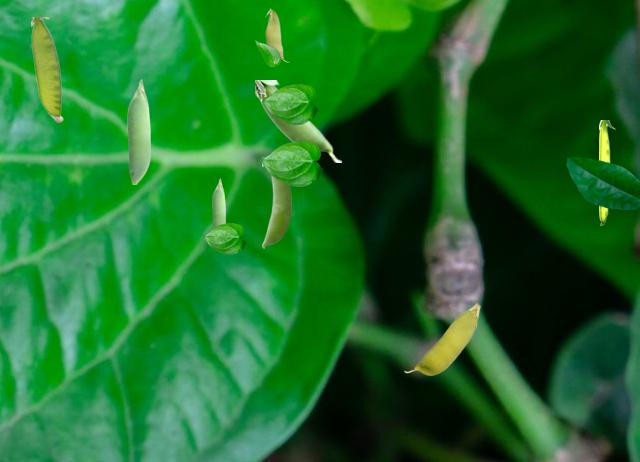pea: (255, 80, 340, 161), (404, 303, 479, 374), (31, 17, 62, 121), (262, 165, 290, 247), (127, 79, 149, 183), (599, 120, 614, 224), (265, 8, 288, 61), (212, 178, 224, 228)
